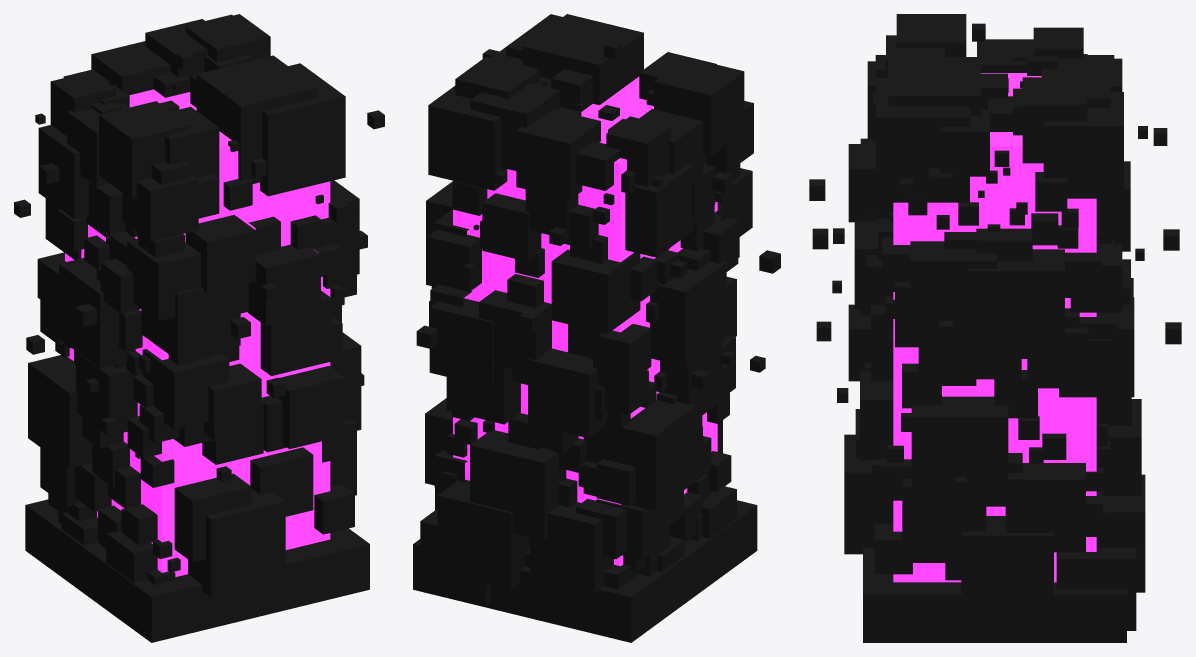
Rendered from GlitchCube.fbx.
The picture shows the model from 3 angles, left to right: view 1: azimuth 30°, elevation 25°; view 2: azimuth 150°, elevation 25°; view 3: azimuth 270°, elevation 25°; orthographic projection. The views are drawn at different scales.
Visible parts, largest first — view 1: Platform.001; view 2: Platform.001; view 3: Platform.001.
Boxes of the visible parts, left/top/right/bottom form: Platform.001: left=14, top=14, right=384, bottom=642; Platform.001: left=413, top=14, right=780, bottom=642; Platform.001: left=809, top=14, right=1181, bottom=642.
Size of the model in its own units: 721 by 1196 by 734.
